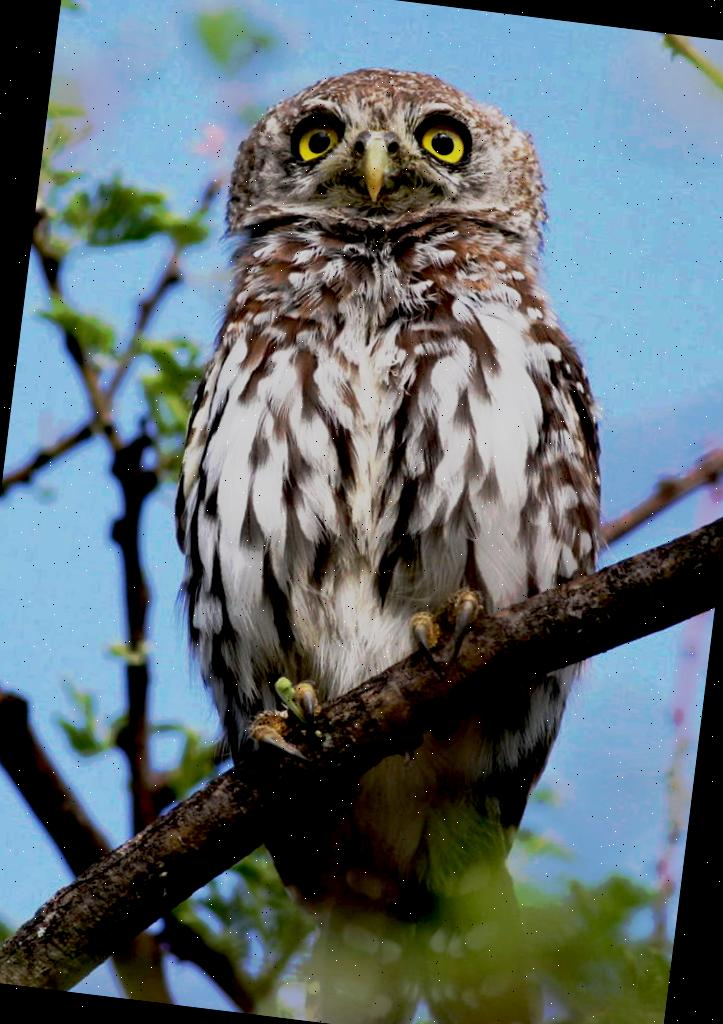Owl: (98, 44, 670, 1024)
